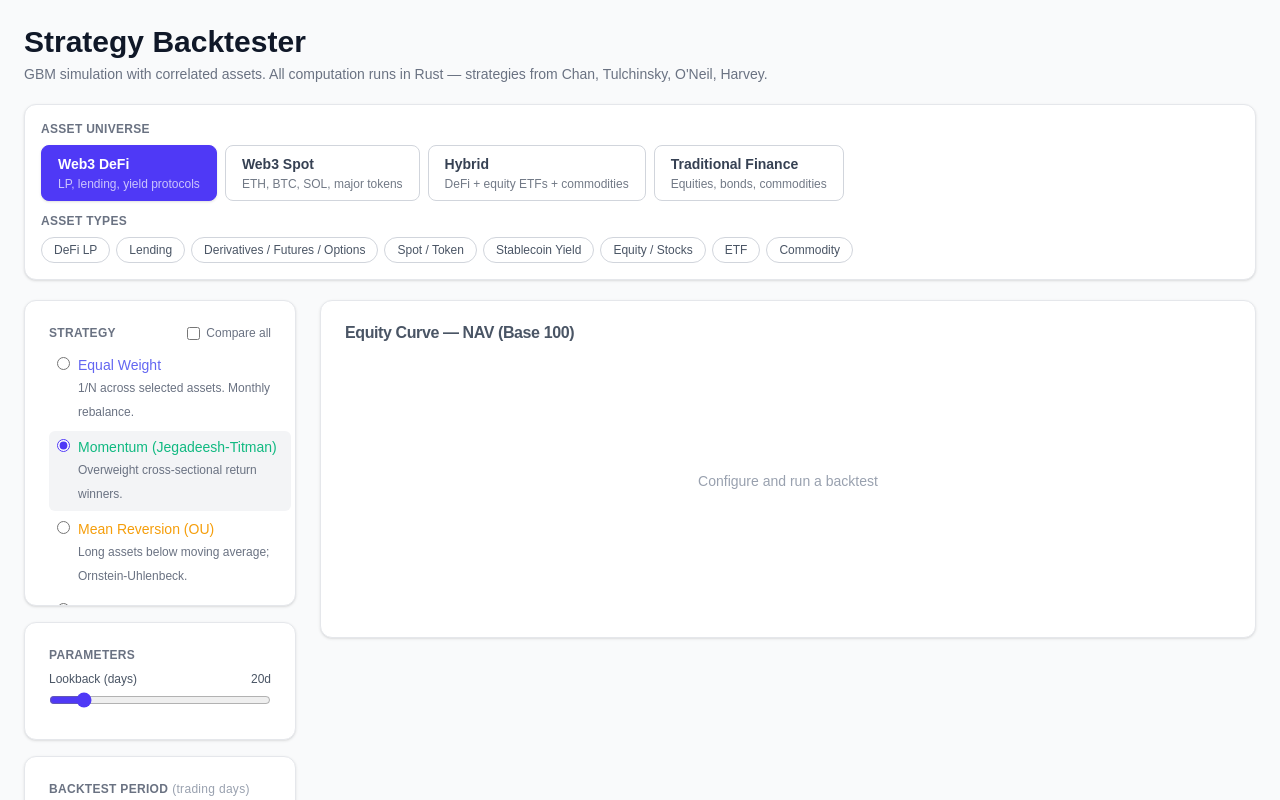
Test case: TopNBar › disappears when switching from trad_fi to web3_defi with no types
Click the radio button with test id "universe-trad_fi" at [749, 173], box [654,145,844,201]
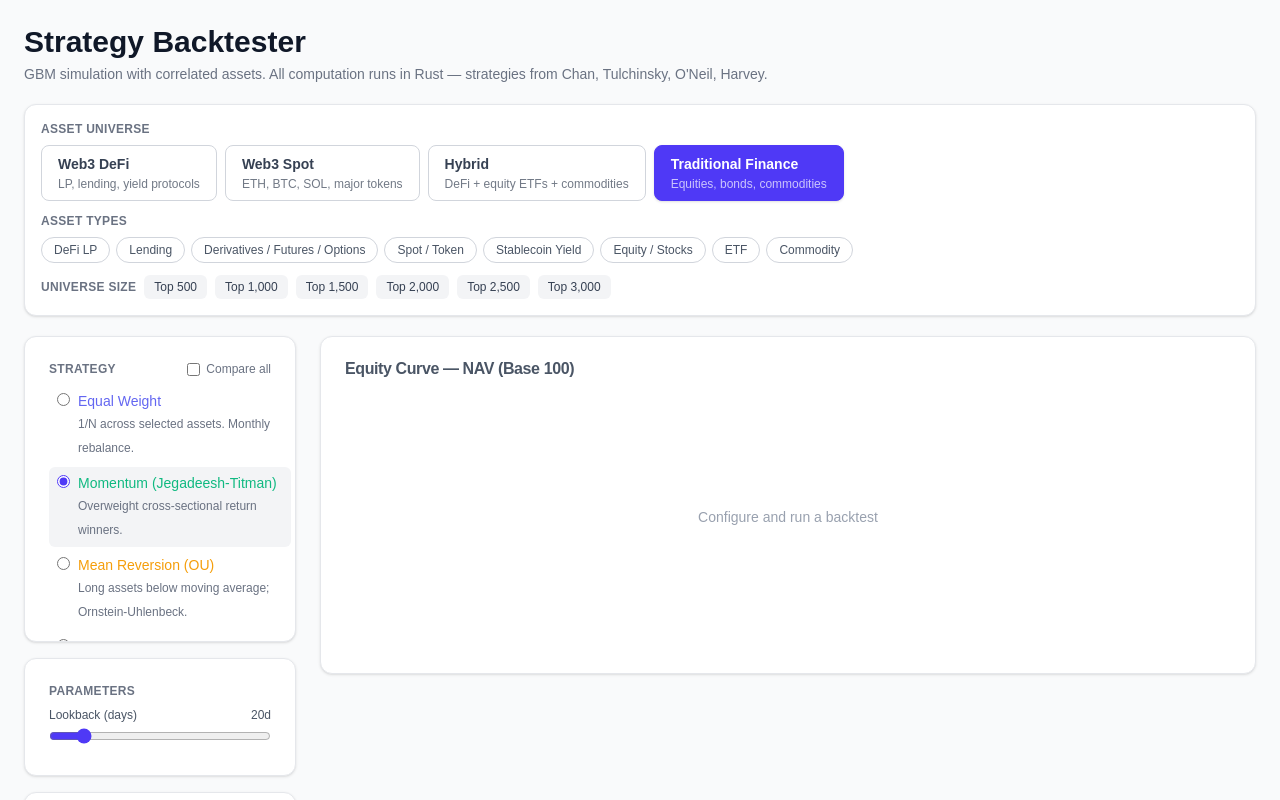
Expected: the element with test id "top-n-bar" is shown, [41,275,611,299]
Click the radio button with test id "universe-web3_defi" at [129, 173], box [41,145,217,201]
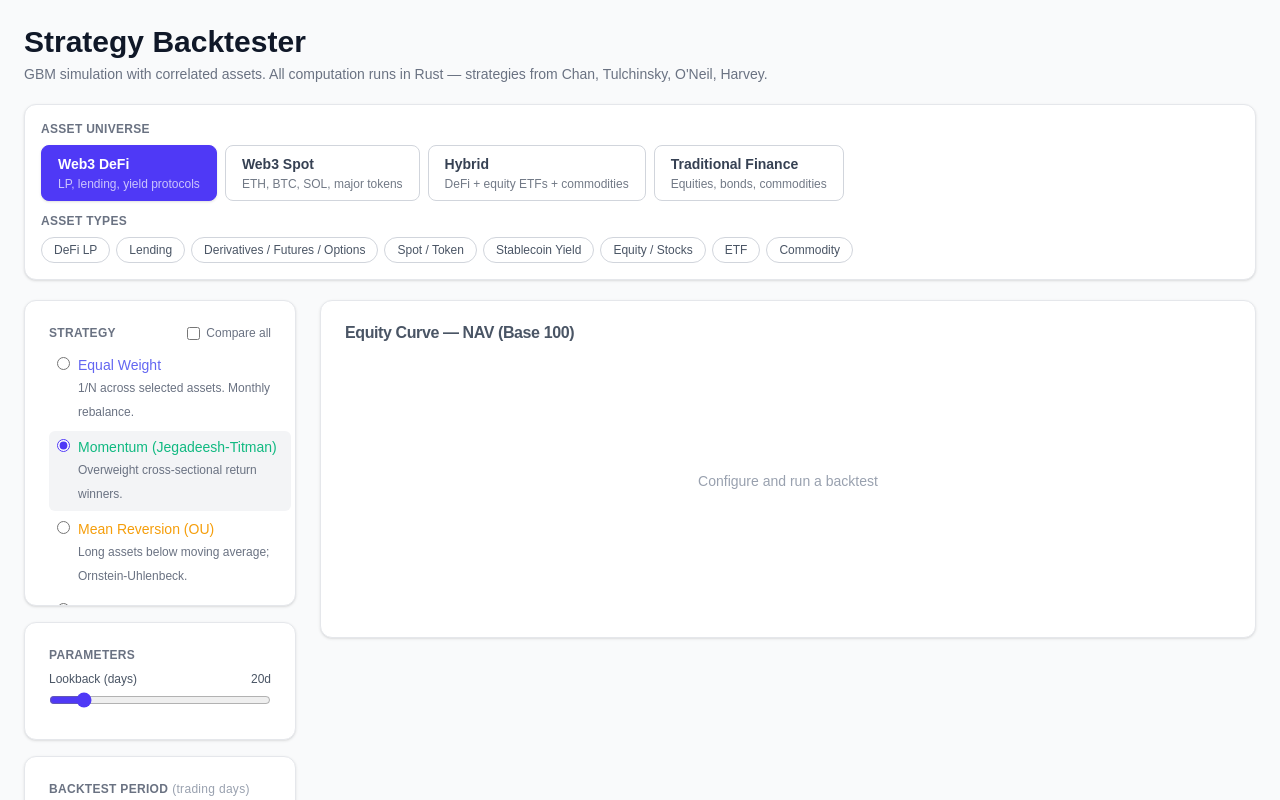
Expected: the element with test id "top-n-bar" is gone
